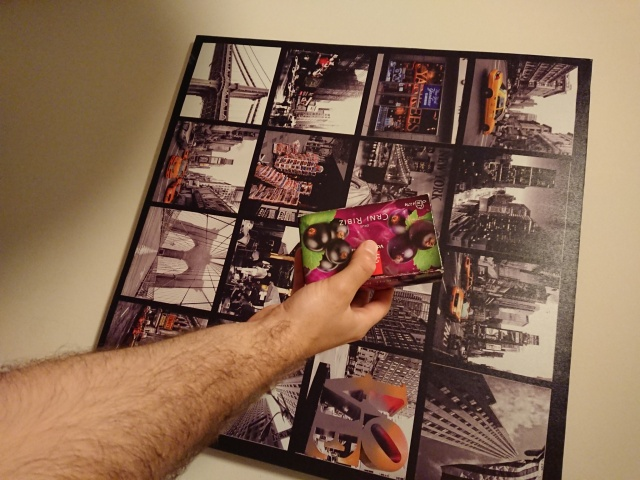Franck Black Currant Tea 60g: (296, 190, 446, 295)
